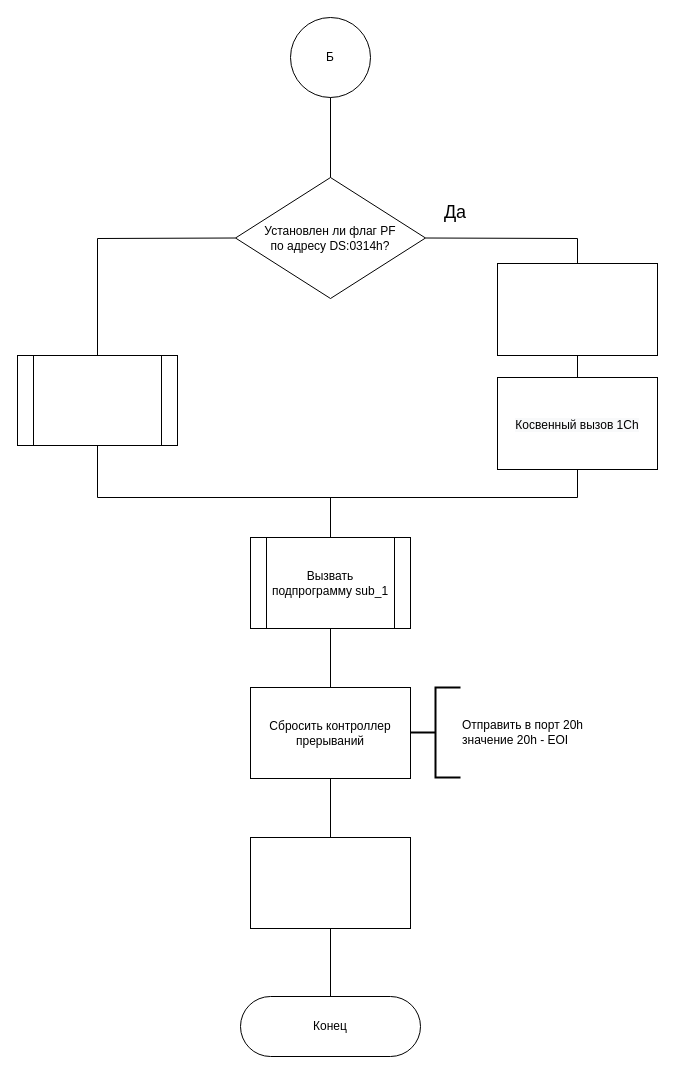
Image size: 675x1074. Some labels were removed from this diagram. Each missing label, with the centre of its shape:
"Восстановить содержимое регистров AX, DX, DS и ES" belongs at (x=330, y=882).
"Вызвать прерывание 1Ch" belongs at (x=97, y=400).
"Сохранить содержимое регистра FLAGS" belongs at (x=577, y=309).
